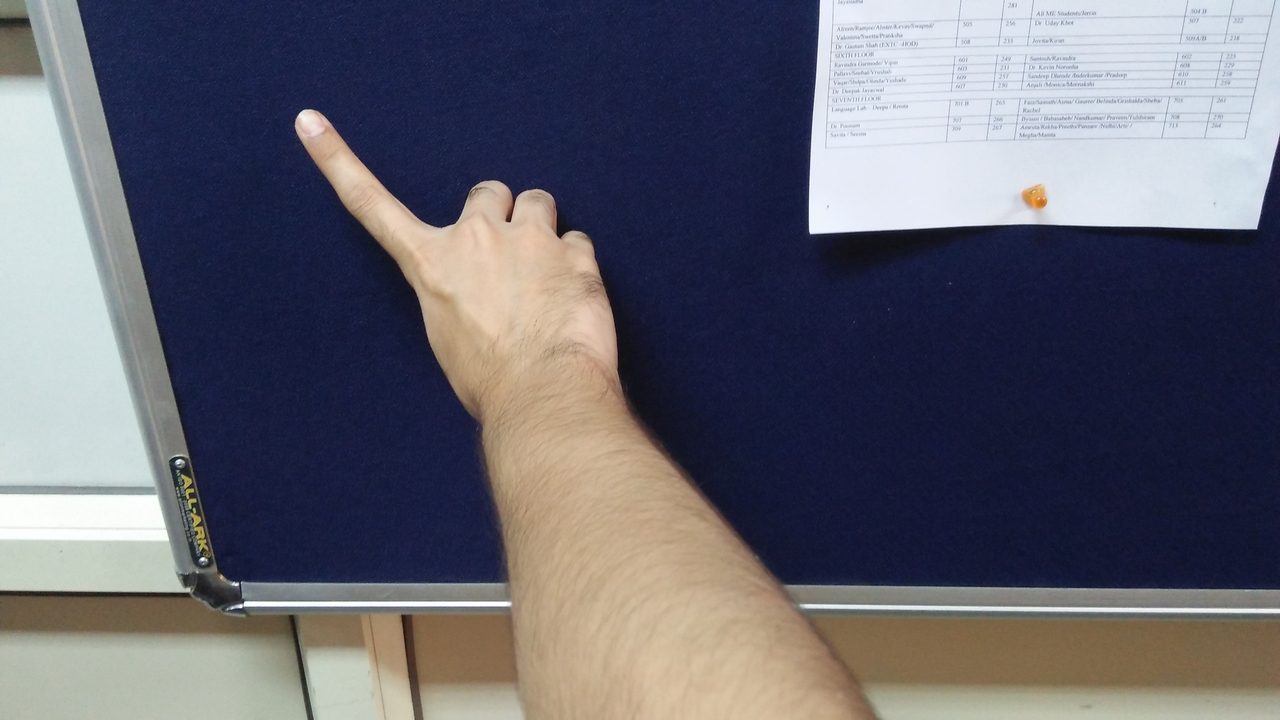fingertip: (282, 100, 342, 150)
